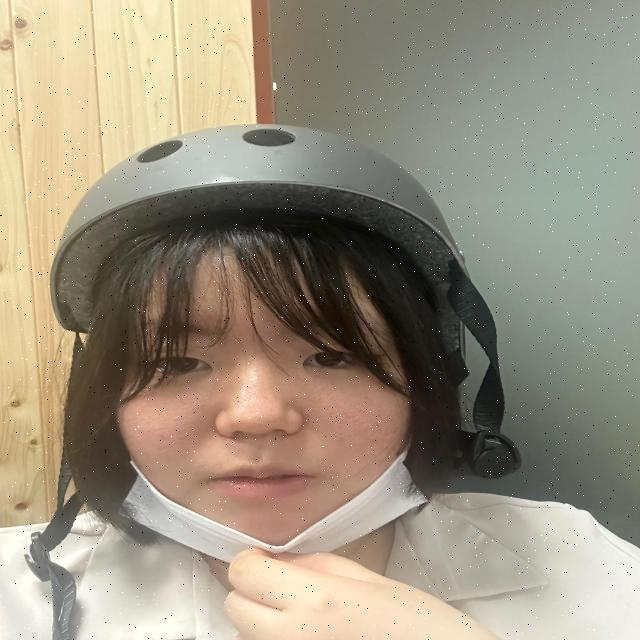helmet: (52, 126, 524, 568)
